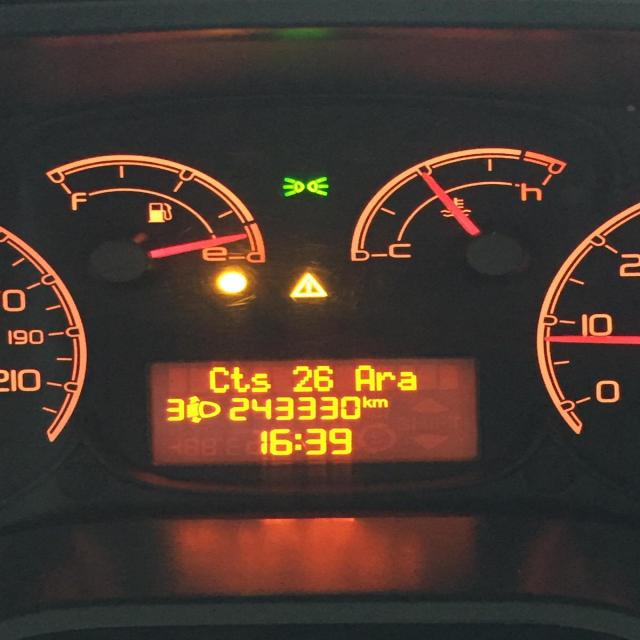odometer: (147, 361, 478, 462)
